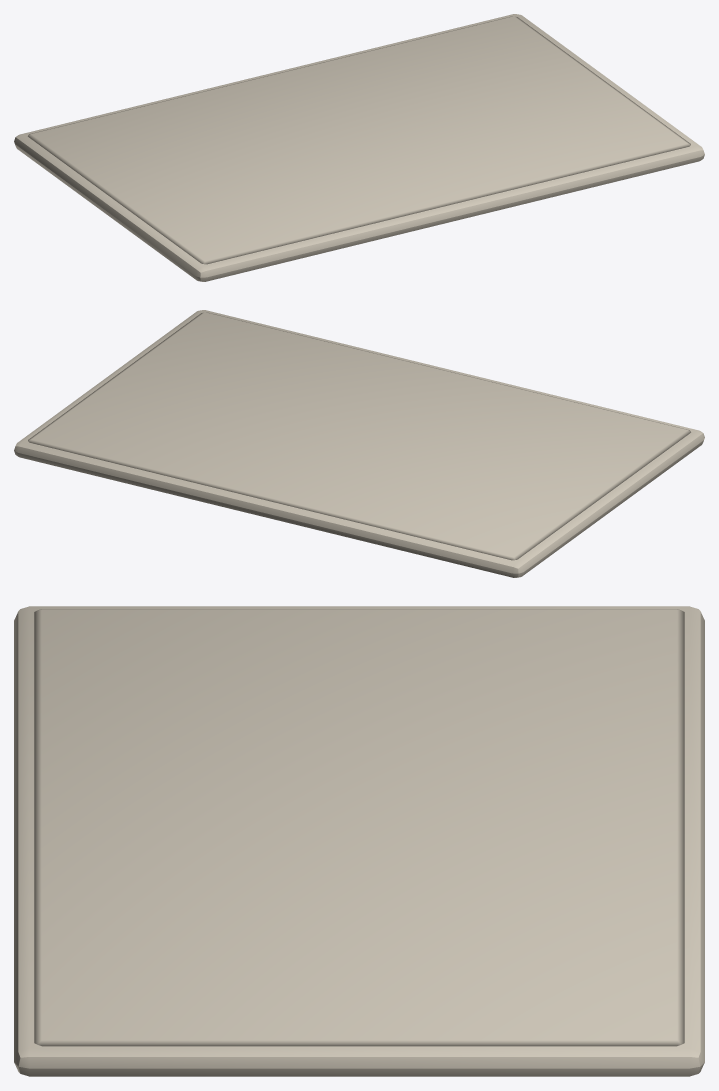
File: bath_mat.glb
3 renders of one model, top to bottom at view 1: azimuth 30°, elevation 25°; view 2: azimuth 150°, elevation 25°; view 3: azimuth 270°, elevation 25°, orthographic. The views are drawn at different scales.
Parts seen in each view (by area): view 1: bath_mat; view 2: bath_mat; view 3: bath_mat.
Part boxes in pixels (x1,y1,x2,y2): bath_mat: [14, 14, 704, 281]; bath_mat: [14, 310, 704, 577]; bath_mat: [14, 606, 704, 1076].
Size of the model in its own units: 0.7 by 0.022 by 0.45.
